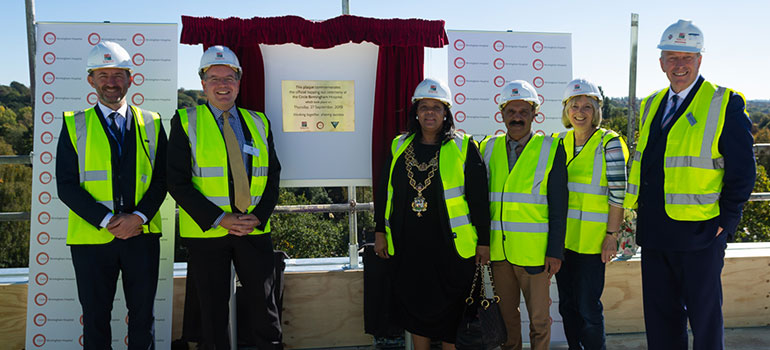Helmet: (653, 15, 713, 95), (84, 39, 140, 118), (195, 44, 248, 114), (552, 73, 606, 137), (405, 73, 456, 140), (493, 77, 545, 142)
Reflective vest: (624, 82, 747, 223), (58, 104, 167, 247), (173, 101, 276, 242), (384, 133, 480, 263), (477, 129, 564, 266), (552, 126, 633, 258)
